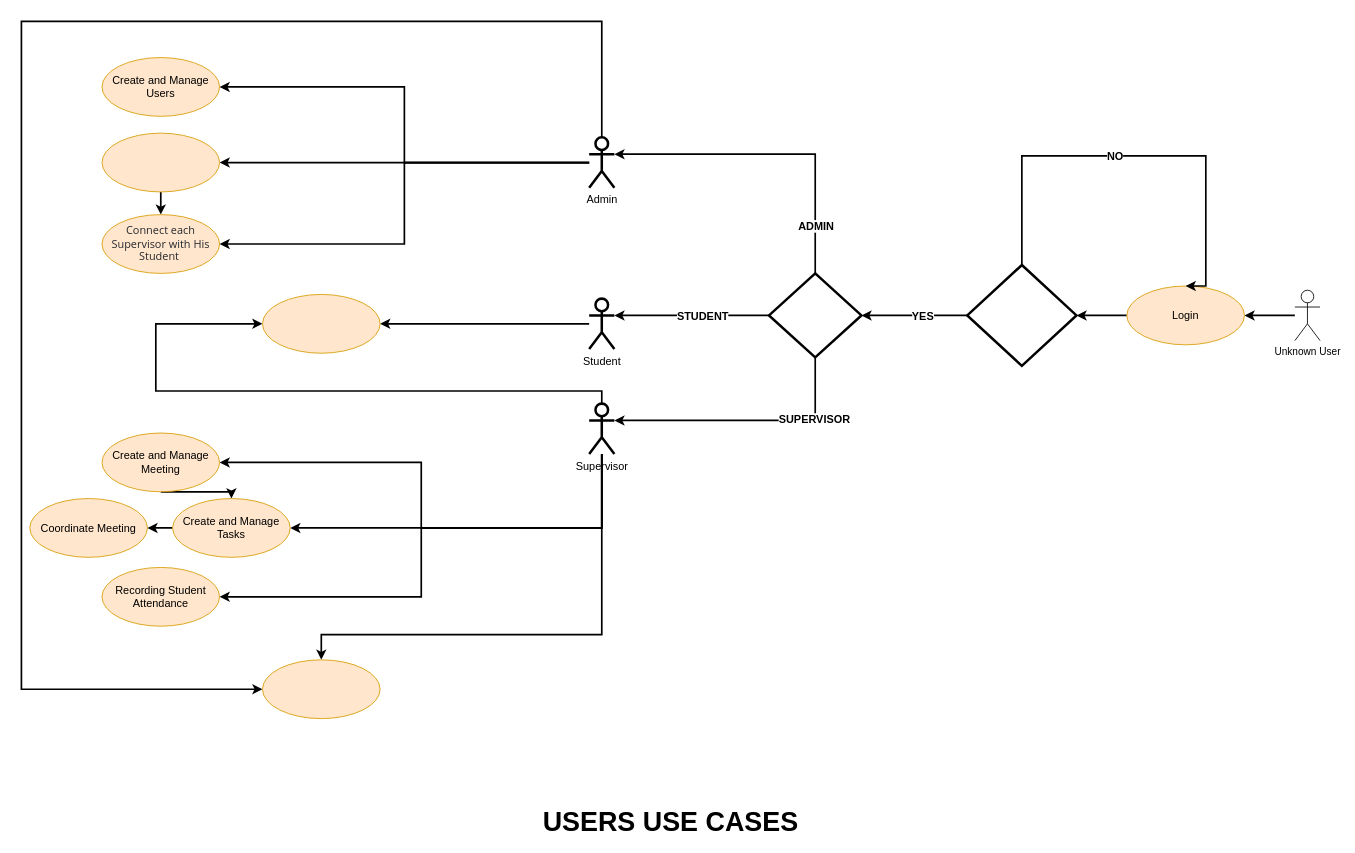
This 1355x853 diagram has some shape labels left out. Each missing label, with the box of its shape:
Create and Manage Students and Supervisors: (101, 132, 220, 192)
Is Existing ?: (966, 263, 1077, 367)
Show Students Activities: (262, 659, 380, 719)
Specify Free Times: (262, 294, 380, 353)
What Role ?: (767, 272, 862, 358)
